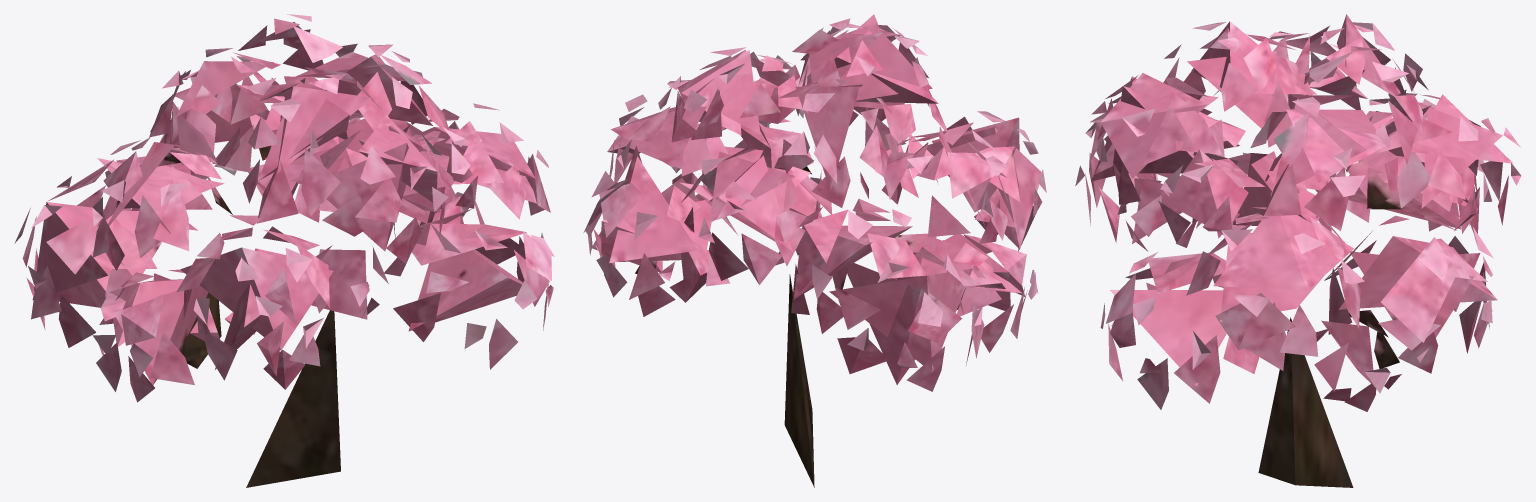
File: blossom.glb
3 renders of one model, left to right at view 1: azimuth 30°, elevation 25°; view 2: azimuth 150°, elevation 25°; view 3: azimuth 270°, elevation 25°, orthographic. The views are drawn at different scales.
Visible parts, largest first — view 1: Mesh; view 2: Mesh; view 3: Mesh.
Boxes of the visible parts, x1,y1,x2,y2 form: Mesh: [14, 14, 554, 487]; Mesh: [583, 14, 1046, 487]; Mesh: [1075, 14, 1521, 487].
Bounding box in the file's own units: 0.9904 × 0.9484 × 0.8294.
Materials: 1 (1 with a texture image).
